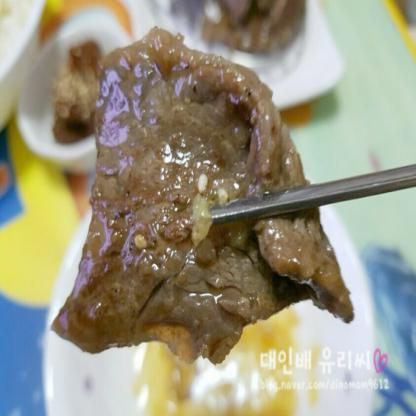Carne: (42, 31, 344, 351)
